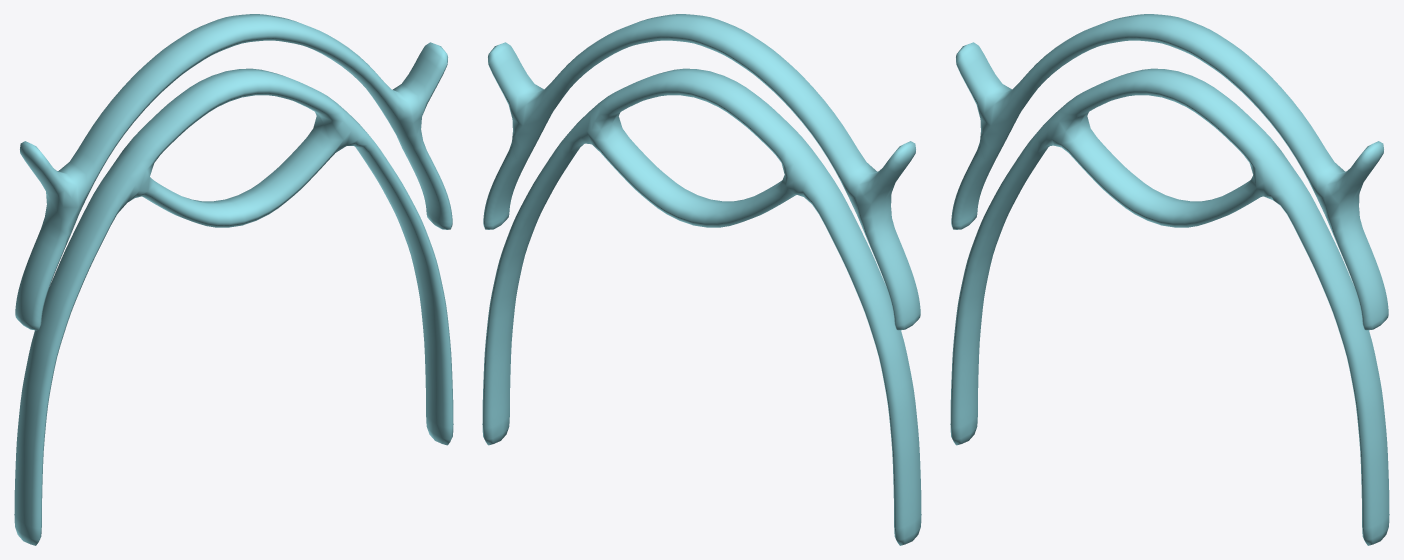
Rendered from Pillar.mid2.fbx.
3 renders of one model, left to right at view 1: azimuth 30°, elevation 25°; view 2: azimuth 150°, elevation 25°; view 3: azimuth 330°, elevation 25°, orthographic.
Visible parts, largest first — view 1: Plane.032; view 2: Plane.032; view 3: Plane.032.
Boxes of the visible parts, x1,y1,x2,y2 form: Plane.032: [14, 14, 453, 545]; Plane.032: [482, 14, 921, 545]; Plane.032: [950, 14, 1389, 545].
Bounding box in the file's own units: 24.71 × 26.2 × 2.43.
